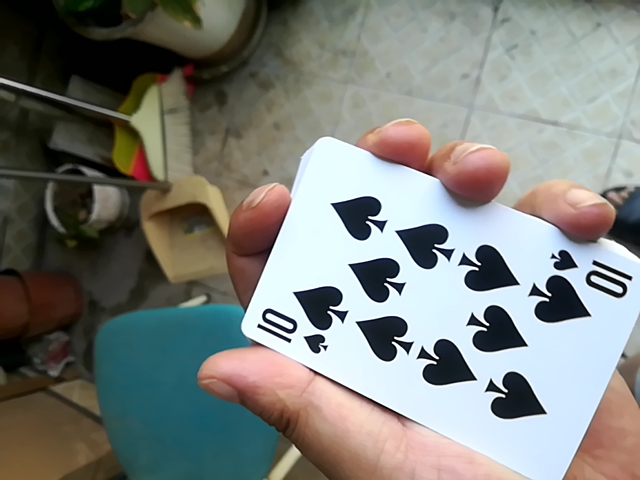ht 10: (233, 128, 636, 476)
